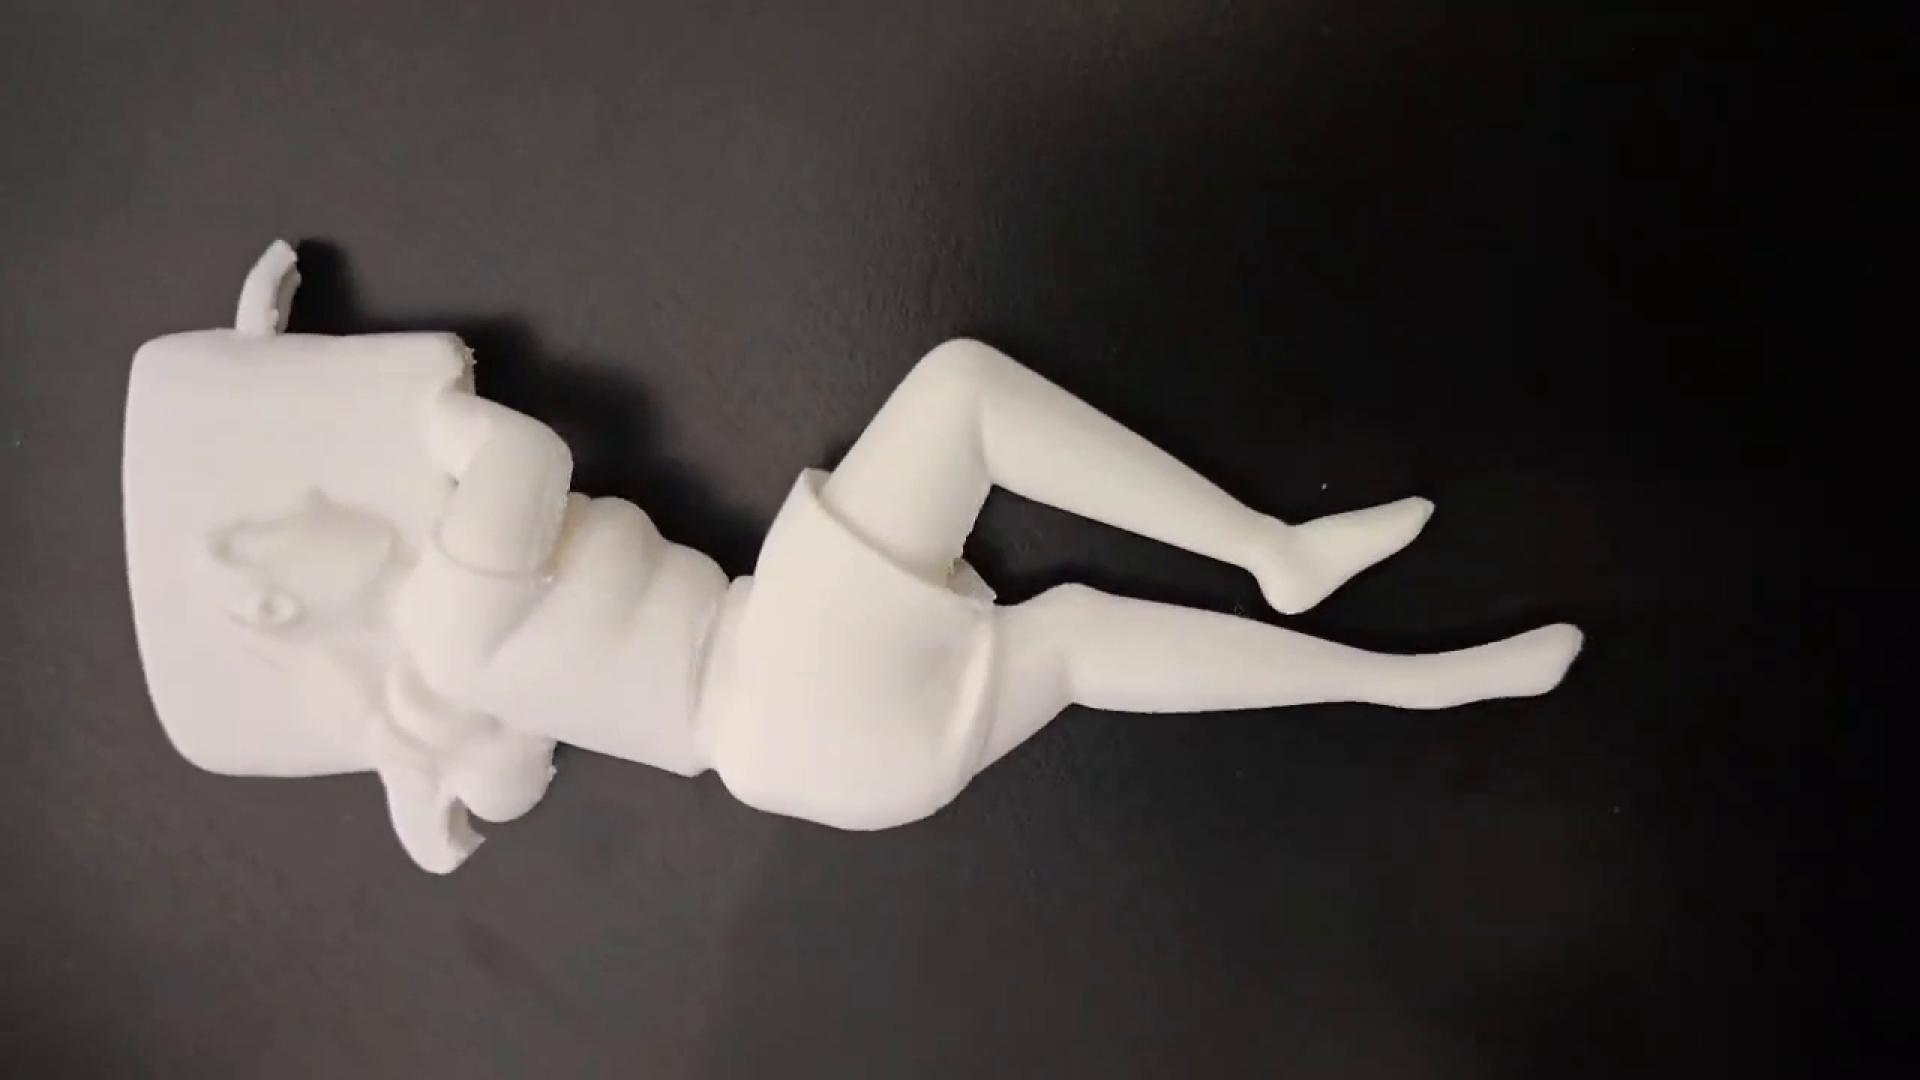Good-style: (108, 237, 1593, 881)
